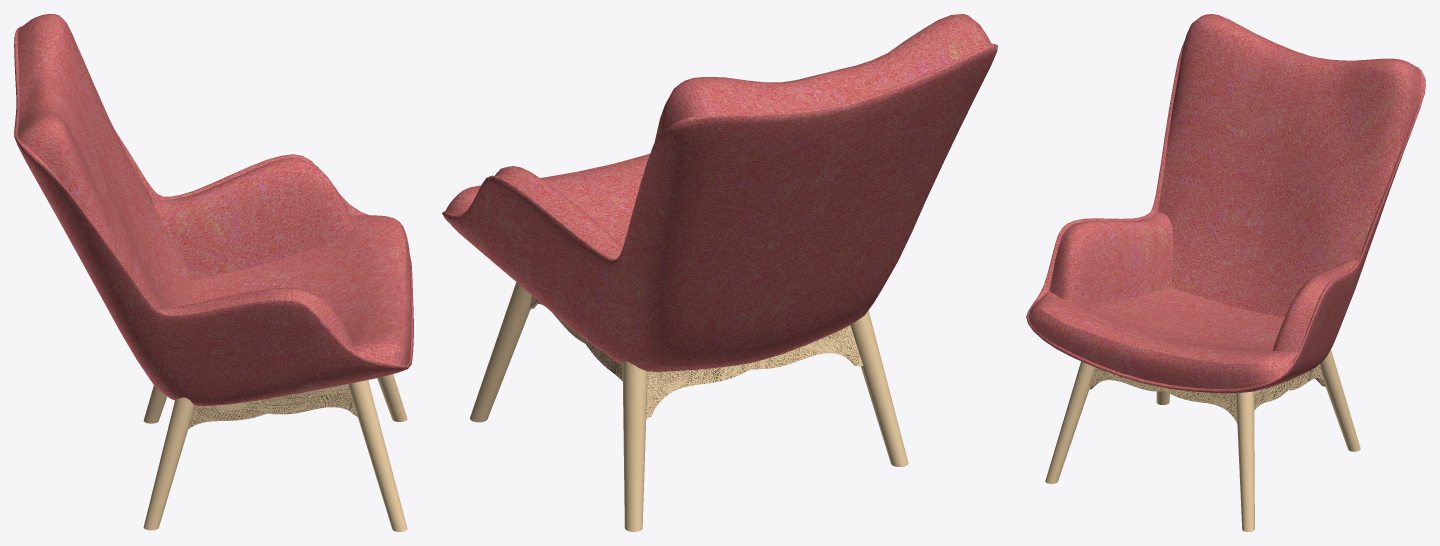
3 renders of one model, left to right at view 1: azimuth 30°, elevation 25°; view 2: azimuth 150°, elevation 25°; view 3: azimuth 270°, elevation 25°, orthographic. The views are drawn at different scales.
Parts seen in each view (by area): view 1: Subsurf_12, Subsurf_17, Subsurf_13 (×2), Subsurf_18, Component_14 (×2), Group_28, Component_15 (×2); view 2: Subsurf_12, Subsurf_17, Component_15 (×2), Subsurf_18, Group_28 (×3), Component_14, Subsurf_13; view 3: Subsurf_17, Subsurf_18, Subsurf_13 (×2), Subsurf_12, Component_14 (×2), Group_28 (×2), Component_15.
Boxes of the visible parts, left/top/right/bottom form: Subsurf_12: left=14, top=26, right=413, bottom=406; Subsurf_17: left=17, top=14, right=194, bottom=308; Subsurf_13 (×2): left=153, top=157, right=353, bottom=348; Subsurf_18: left=190, top=214, right=411, bottom=365; Component_14 (×2): left=348, top=374, right=407, bottom=531; Group_28: left=188, top=384, right=357, bottom=428; Component_15 (×2): left=143, top=385, right=194, bottom=530; Subsurf_12: left=442, top=43, right=997, bottom=371; Subsurf_17: left=654, top=14, right=991, bottom=142; Component_15 (×2): left=622, top=310, right=908, bottom=531; Subsurf_18: left=445, top=154, right=649, bottom=246; Group_28 (×3): left=529, top=296, right=863, bottom=418; Component_14: left=470, top=282, right=531, bottom=422; Subsurf_13: left=495, top=166, right=622, bottom=259; Subsurf_17: left=1158, top=14, right=1421, bottom=317; Subsurf_18: left=1028, top=287, right=1298, bottom=388; Subsurf_13 (×2): left=1049, top=212, right=1358, bottom=351; Subsurf_12: left=1026, top=34, right=1425, bottom=393; Component_14 (×2): left=1045, top=361, right=1254, bottom=531; Group_28 (×2): left=1089, top=364, right=1325, bottom=423; Component_15: left=1320, top=349, right=1360, bottom=451.
Bounding box in the file's own units: 37.09 × 35.34 × 34.56.
Materials: 4 (2 with a texture image).
